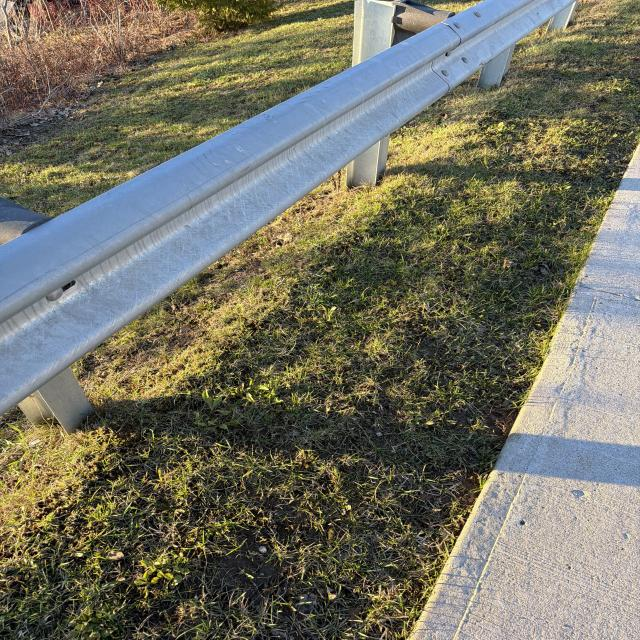Guard rail: (15, 17, 568, 399)
